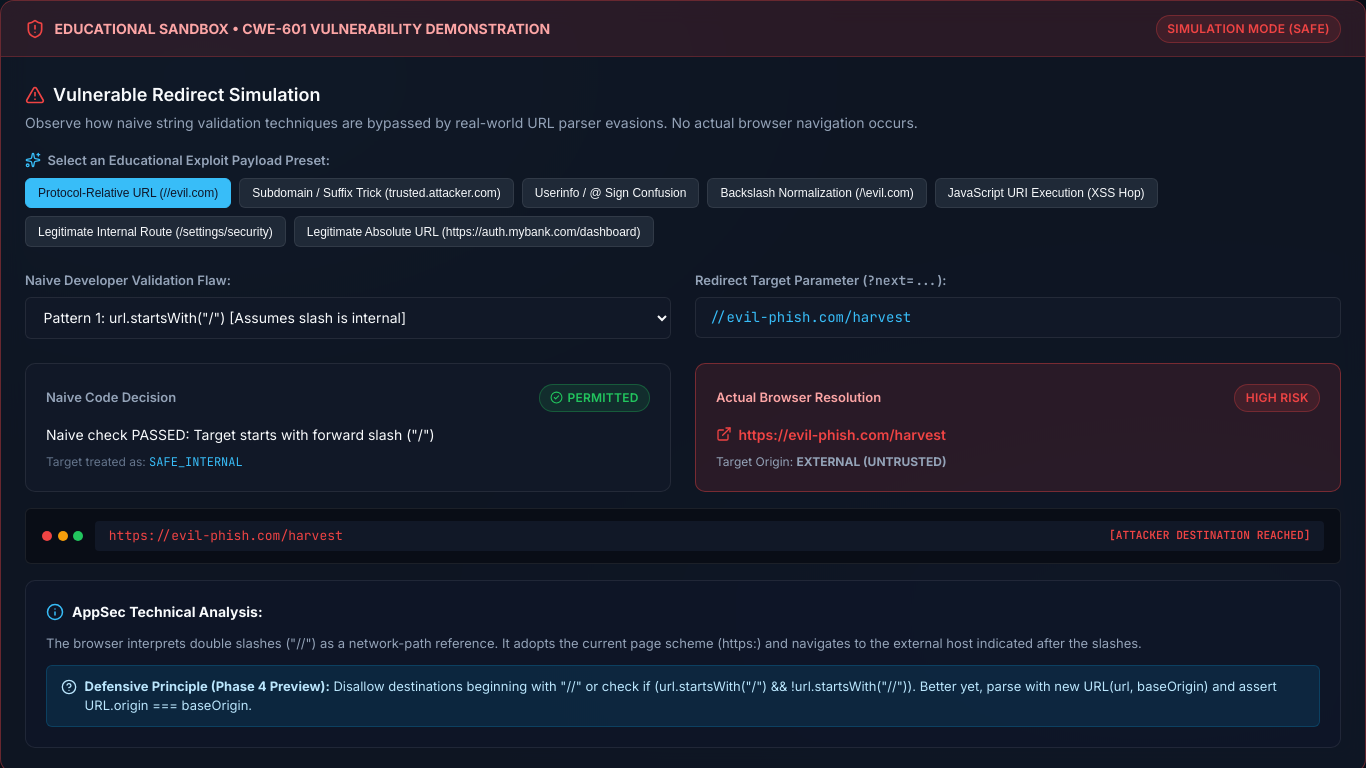
Test case: VulnerabilityDemo Component Integration Tests › switches naive strategy and re-evaluates result dynamically
The width and height of the screenshot is (1366, 768).
Click the button "Subdomain / Suffix Trick (trusted.attacker.com)" at (377,193), box x1=239 y1=178 x2=514 y2=208
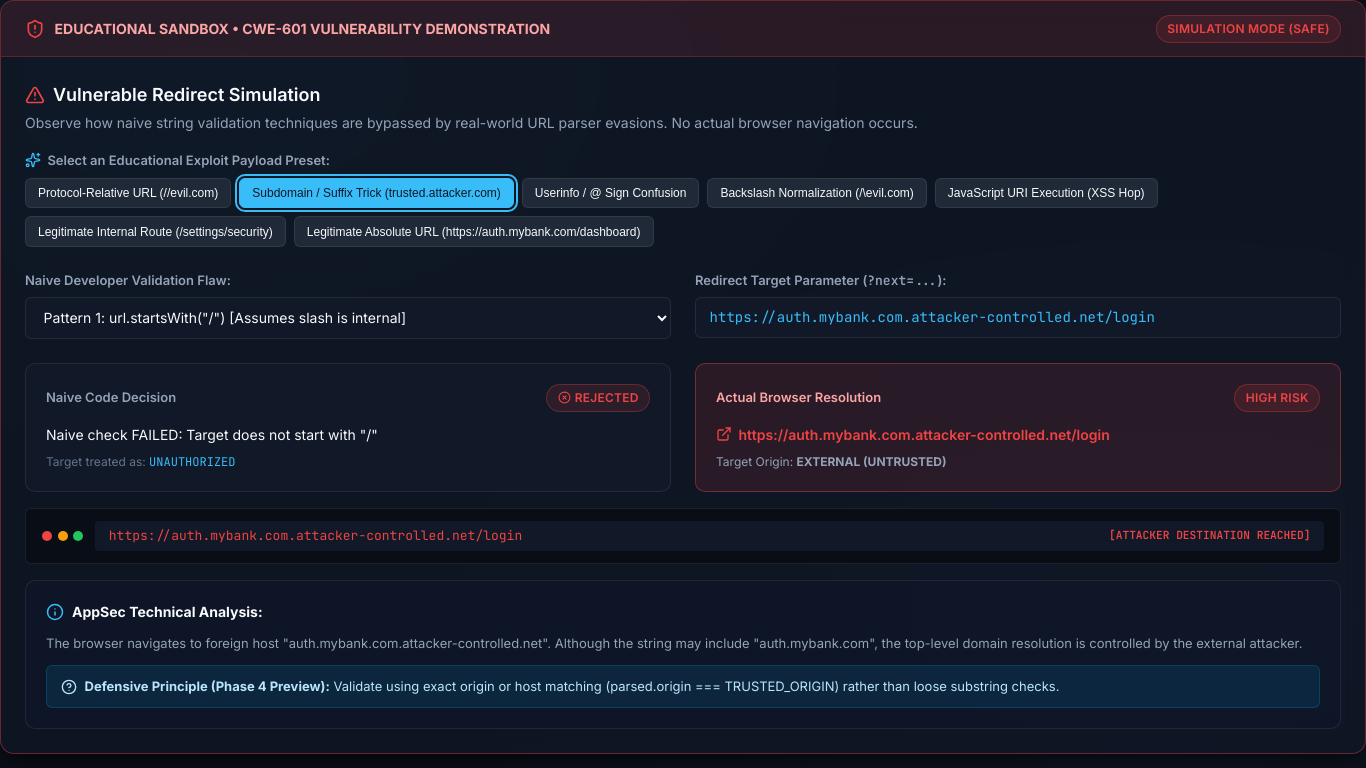
Expected: the text "REJECTED" is shown, x1=546 y1=384 x2=650 y2=412
Note: Now switch strategy to Pattern 2: INCLUDES_TRUSTED_DOMAIN
Select "Pattern 2: url.includes(\"auth.mybank.com\") [Substring check]" in the dropdown labelled "Naive Developer Validation Flaw:" at (348,318), box x1=25 y1=297 x2=671 y2=338
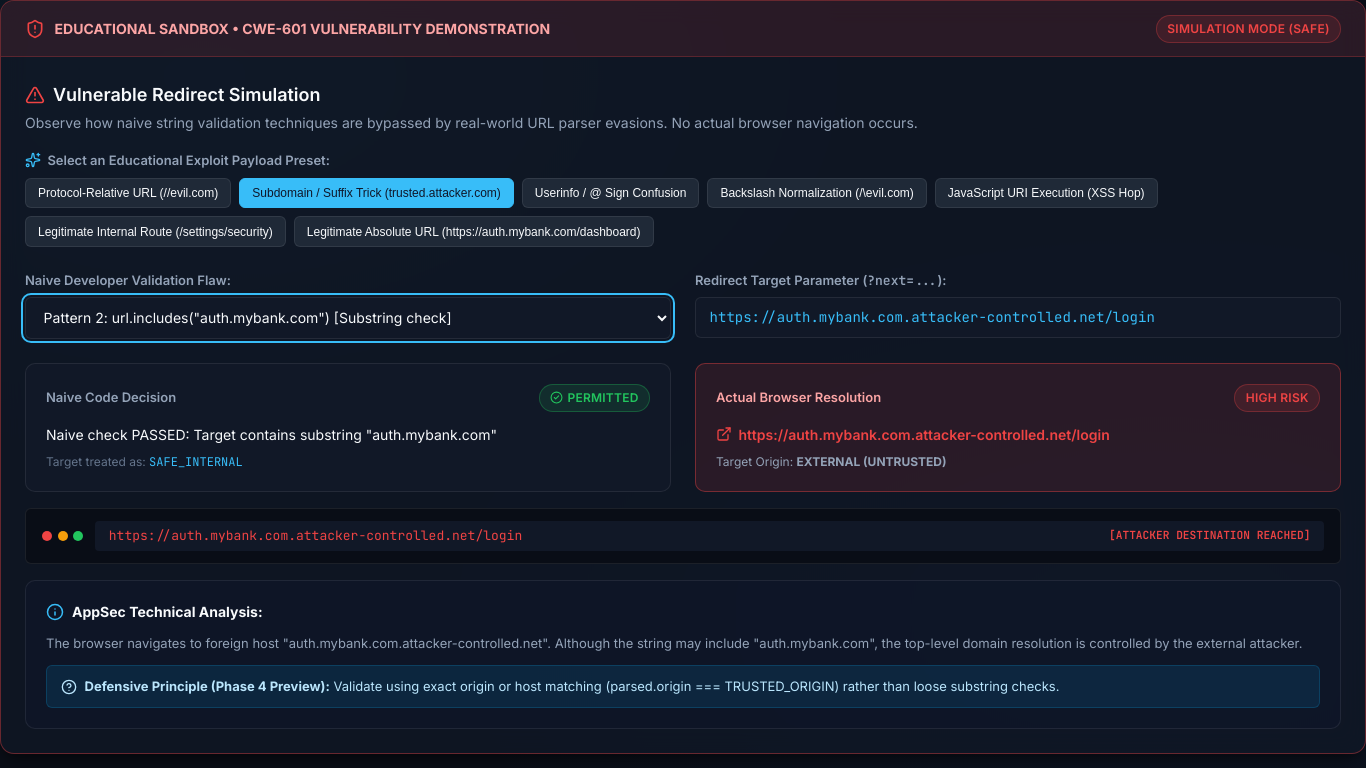
Expected: the text "PERMITTED" is shown, x1=539 y1=384 x2=650 y2=412
Expected: the text "Naive check PASSED: Target contains substring \"auth.mybank.com\"" is shown, x1=46 y1=426 x2=497 y2=442
